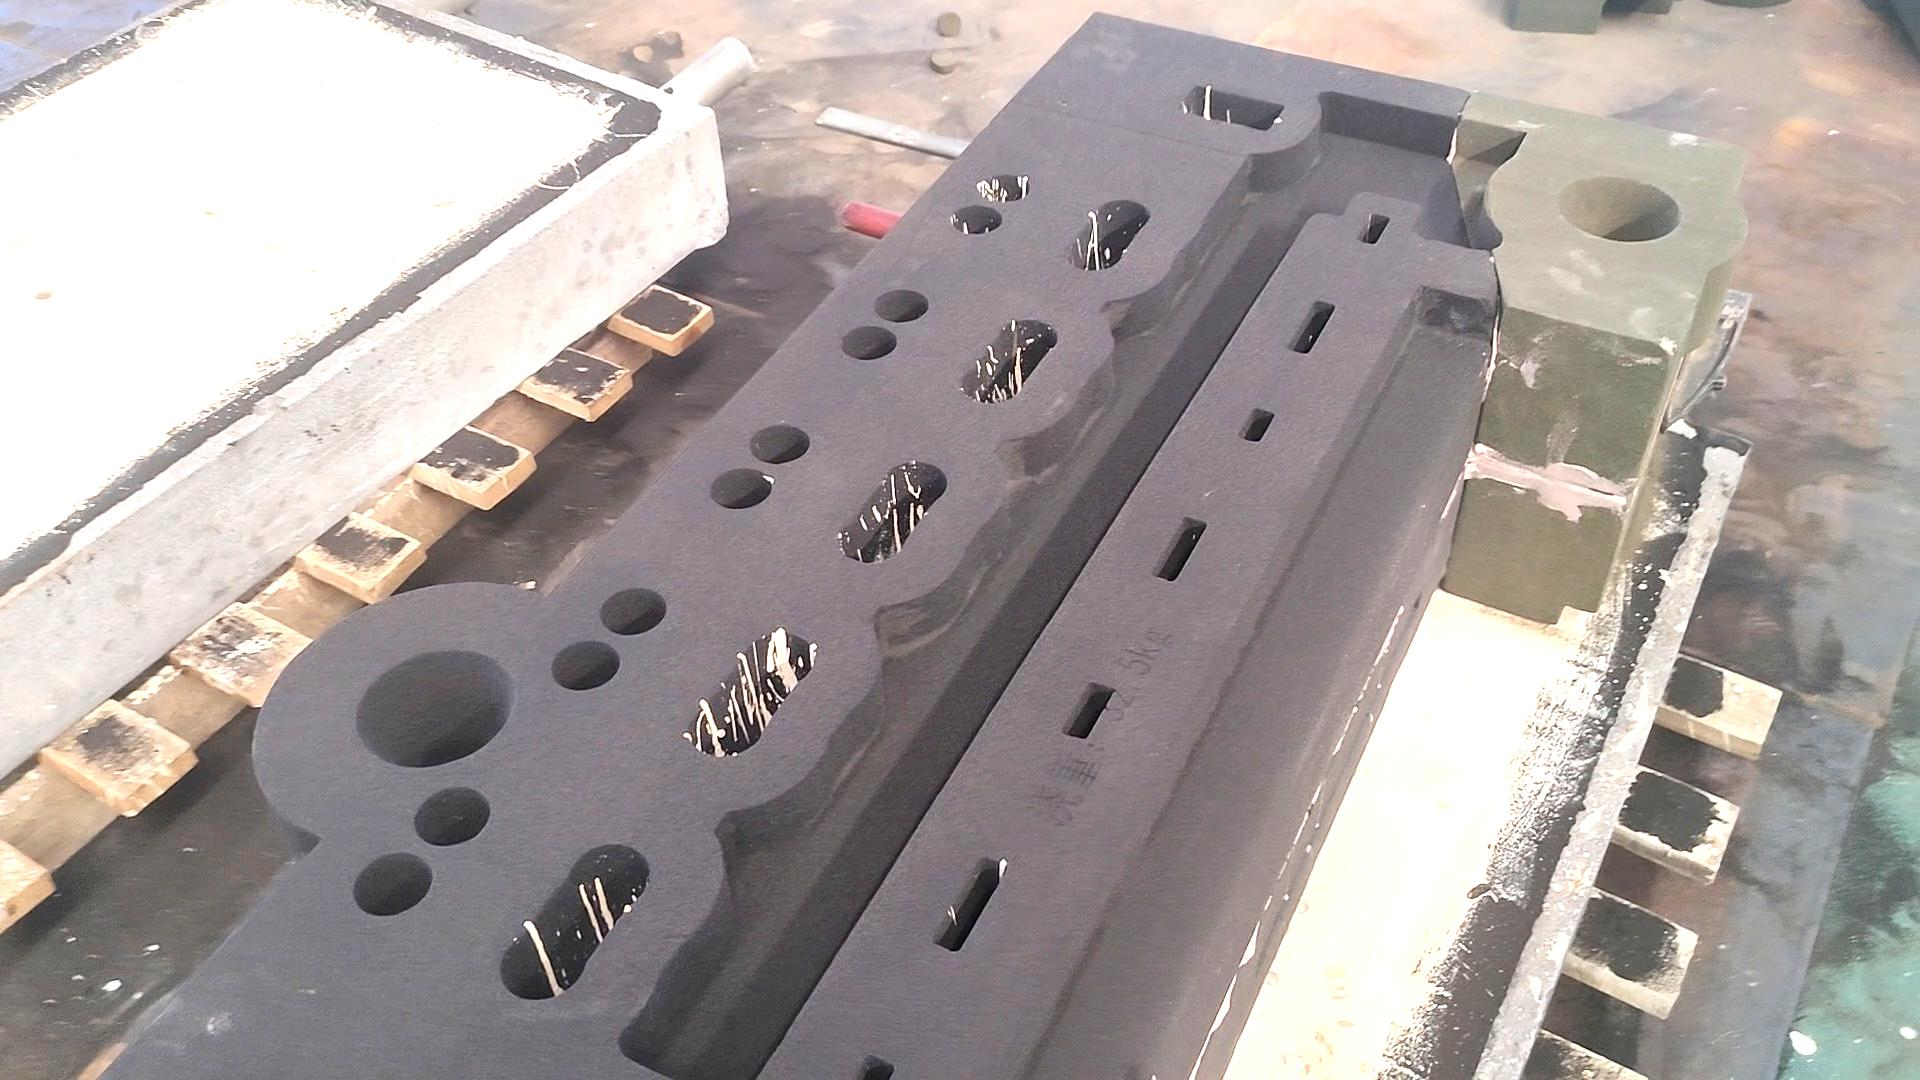pouring hole: (357, 650, 512, 767), (1557, 175, 1683, 240)
